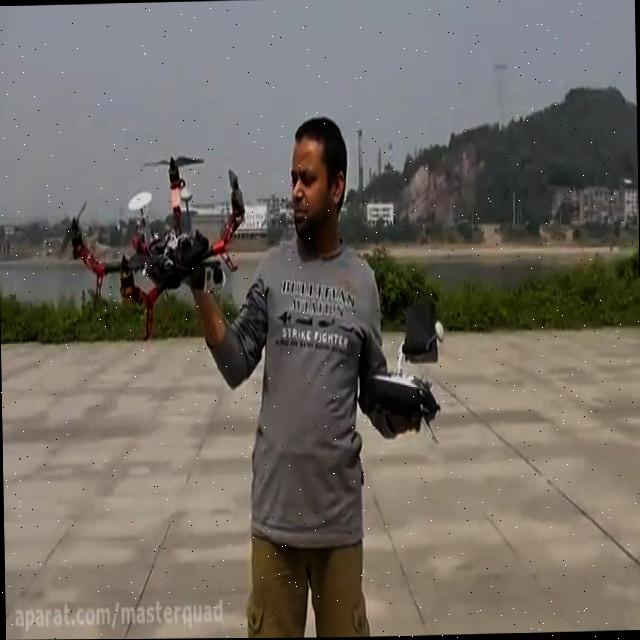drone: (51, 144, 252, 349)
